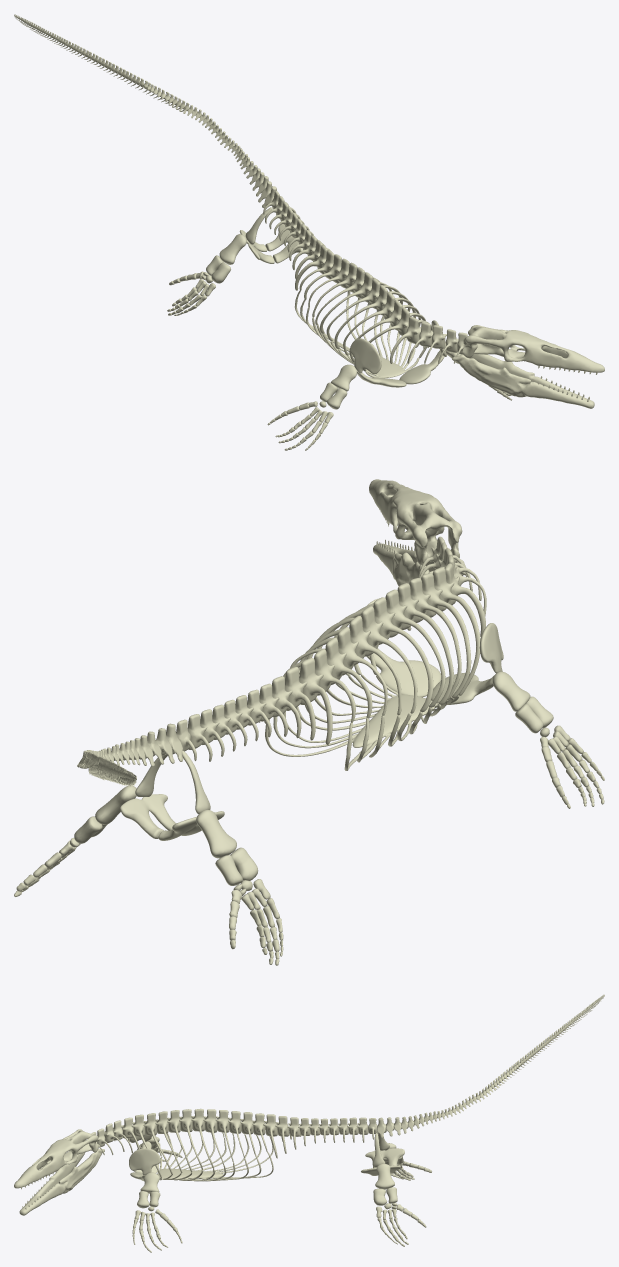
Rendered from tylosaurus_skeleton_high_poly_count.glb.
The picture shows the model from 3 angles, top to bottom: view 1: azimuth 30°, elevation 25°; view 2: azimuth 150°, elevation 25°; view 3: azimuth 270°, elevation 25°; orthographic projection. The views are drawn at different scales.
Visible parts, largest first — view 1: Object_4, Object_3, Object_7, Object_9, Object_5, Object_2, Object_8, Object_6, Object_10; view 2: Object_9, Object_4, Object_7, Object_8, Object_2, Object_6, Object_5, Object_3, Object_10; view 3: Object_4, Object_9, Object_7, Object_3, Object_2, Object_8, Object_6, Object_5, Object_10.
Part boxes in pixels (bbox=[...]): Object_4: bbox=[239, 207, 604, 374]; Object_3: bbox=[14, 14, 594, 408]; Object_7: bbox=[263, 191, 467, 363]; Object_9: bbox=[168, 234, 419, 377]; Object_5: bbox=[15, 16, 512, 402]; Object_2: bbox=[15, 15, 334, 279]; Object_8: bbox=[200, 254, 432, 371]; Object_6: bbox=[205, 275, 511, 450]; Object_10: bbox=[167, 262, 597, 401]; Object_9: bbox=[16, 674, 459, 965]; Object_4: bbox=[120, 479, 503, 840]; Object_7: bbox=[176, 536, 485, 760]; Object_8: bbox=[251, 567, 480, 906]; Object_2: bbox=[77, 667, 315, 784]; Object_6: bbox=[14, 555, 604, 896]; Object_5: bbox=[80, 648, 543, 890]; Object_3: bbox=[98, 543, 466, 784]; Object_10: bbox=[27, 498, 415, 964]; Object_4: bbox=[14, 1121, 404, 1188]; Object_9: bbox=[157, 1134, 426, 1246]; Object_7: bbox=[91, 1108, 377, 1175]; Object_3: bbox=[19, 994, 604, 1215]; Object_2: bbox=[275, 995, 603, 1153]; Object_8: bbox=[131, 1109, 255, 1177]; Object_6: bbox=[112, 1120, 423, 1252]; Object_5: bbox=[130, 997, 603, 1247]; Object_10: bbox=[21, 1158, 431, 1244].
Bounding box in the file's own units: 4.68 × 4.26 × 12.87.
